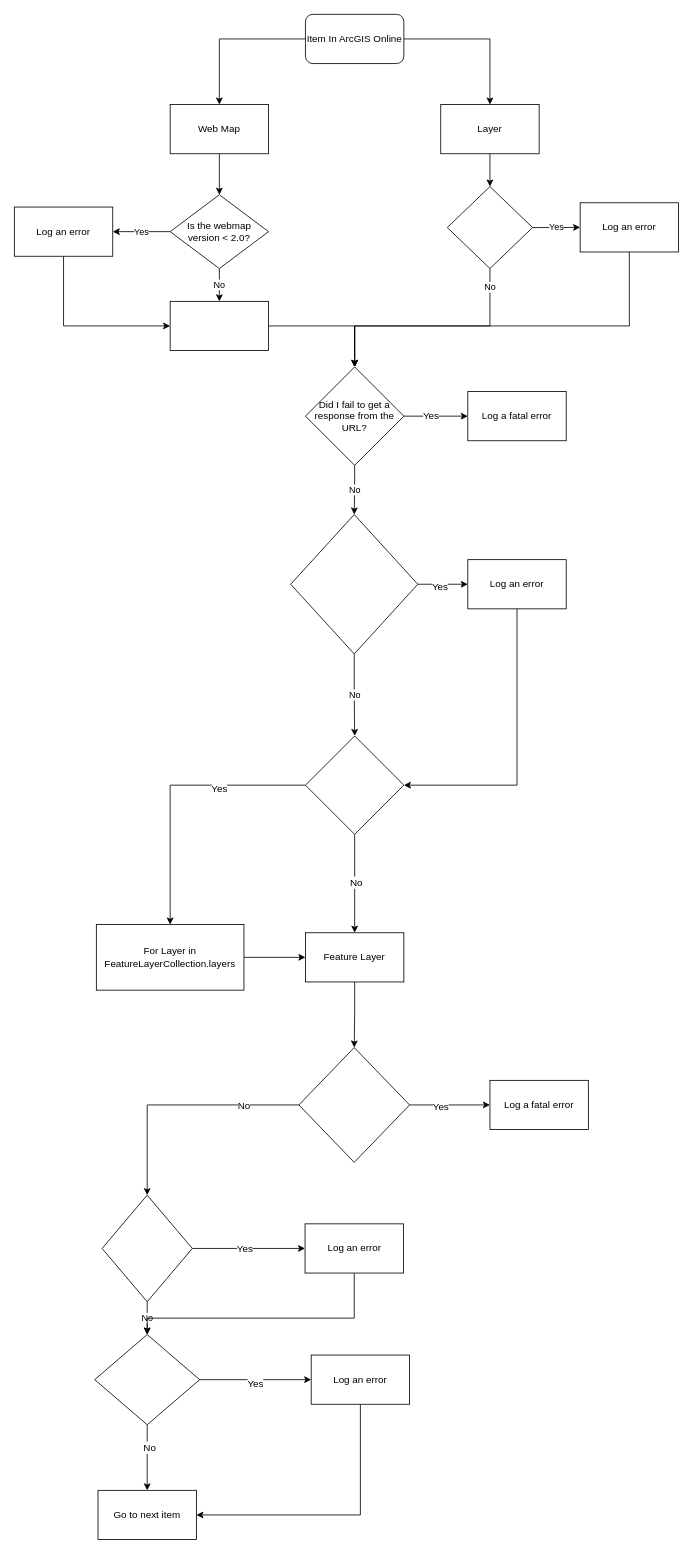
Some shapes in this 693 by 1554 pixel diagram are drawn without their labels. Each missing label, with the centre of its shape:
"Did the FeatureLayer fail to get created?" belongs at (354,1104).
"Does the layer have no features?" belongs at (146,1248).
"Does the layer use production Resources? Or did it fail its SLL cert?" belongs at (354,584).
"For Layer in webmap.layers" belongs at (219,326).
"Is it a Feature Collection?" belongs at (354,784).
"Is the ArcGIS server version pre-9.3?" belongs at (147,1379).
"is the layer public and editable?" belongs at (489,227).
